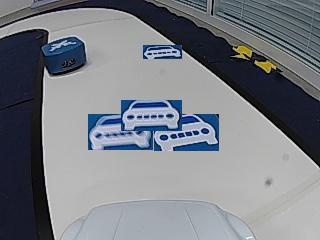spy: (49, 40, 77, 51)
